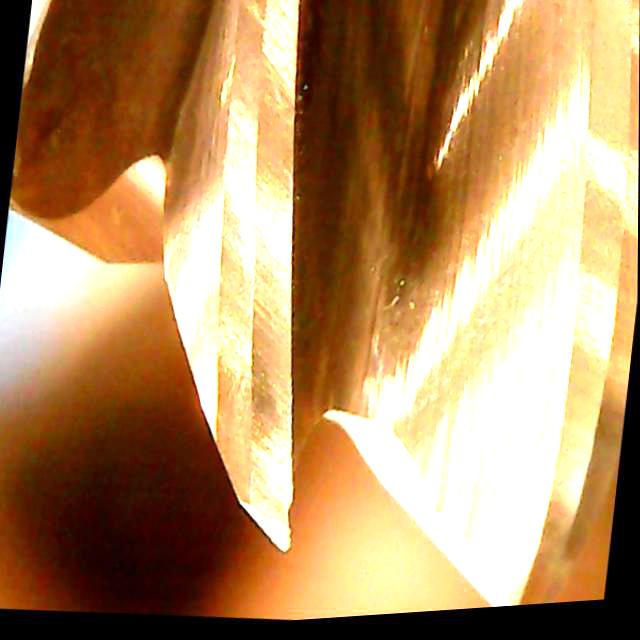Tool-wear-class-0: (150, 208, 347, 572)
